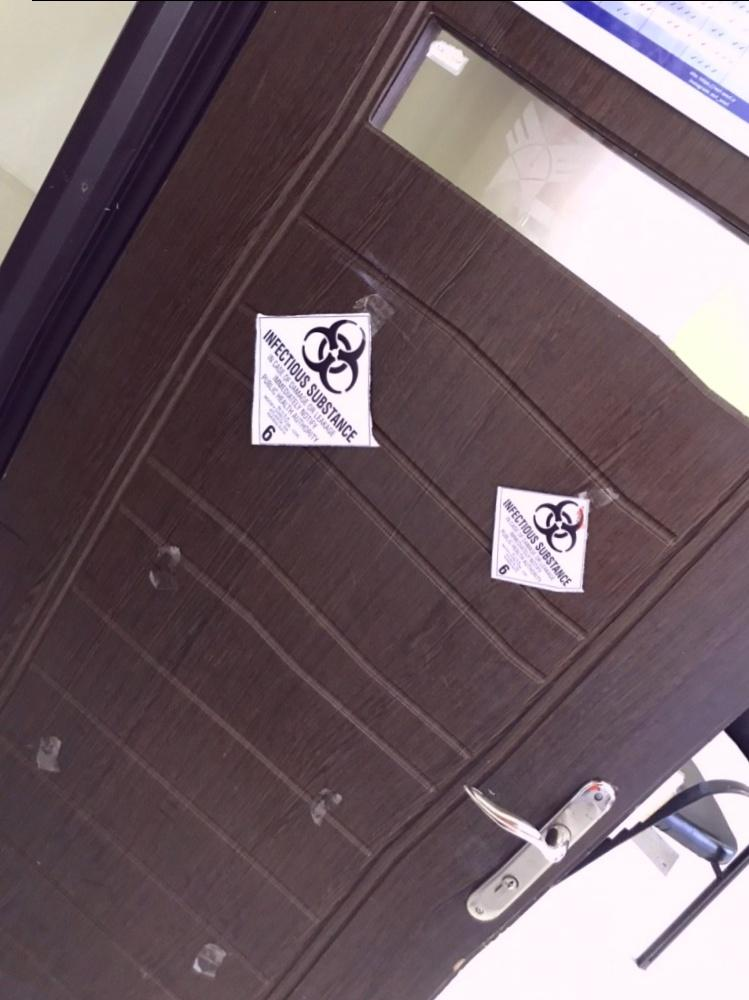infectious-substance: (253, 308, 390, 456), (487, 479, 595, 597)
